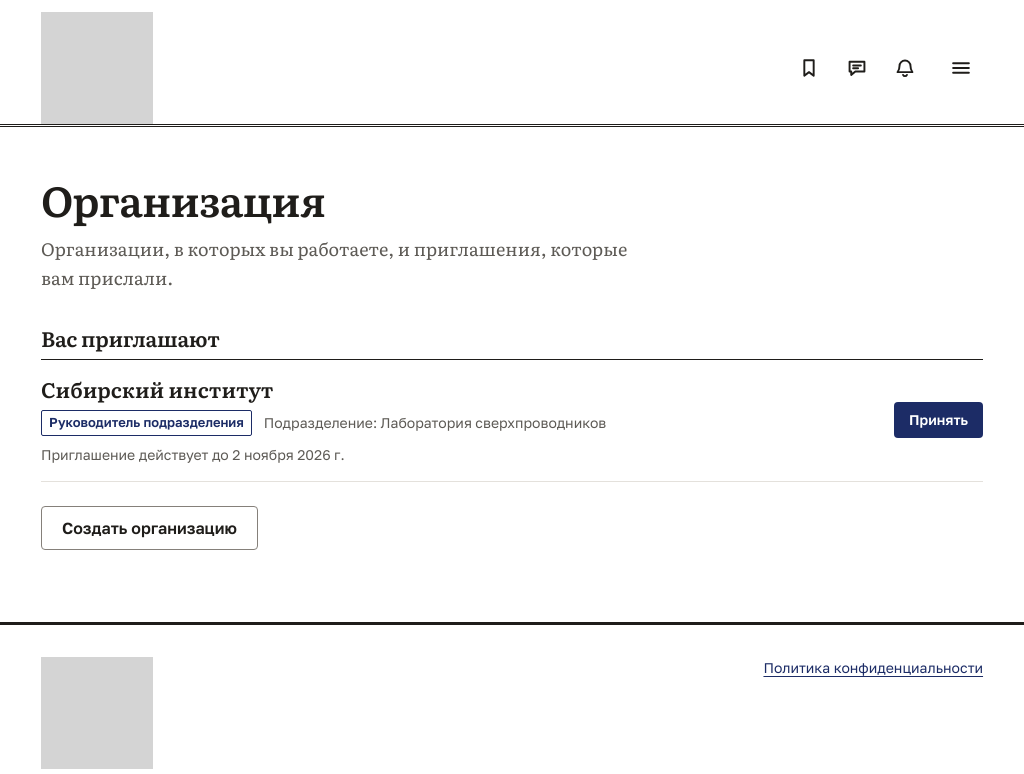
it: my organizations › shows an invitation waiting for the person and accepts it
Expected: the link "Сибирский институт" is shown, 41,372 -> 274,404
Expected: the text "Руководитель подразделения" is shown, 41,410 -> 252,436
Click the button "Принять" at (939, 420), box 894,402 -> 983,438
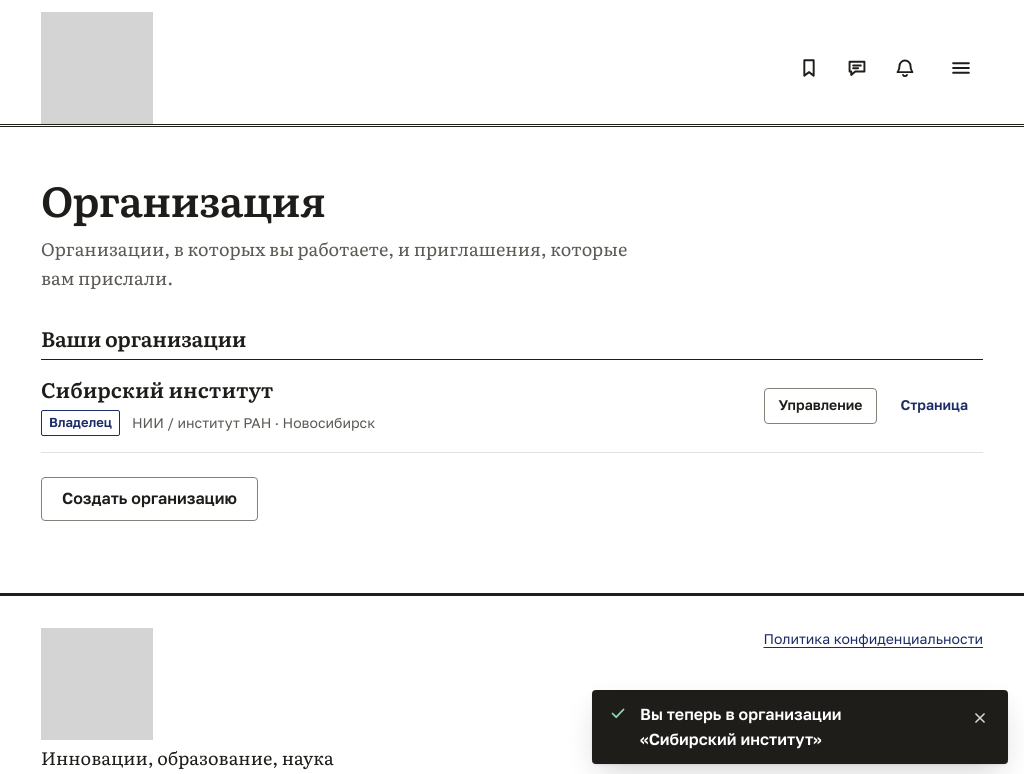
Expected: the heading "Ваши организации" is shown, 41,325 -> 983,360
Expected: the heading "Вас приглашают" is gone
